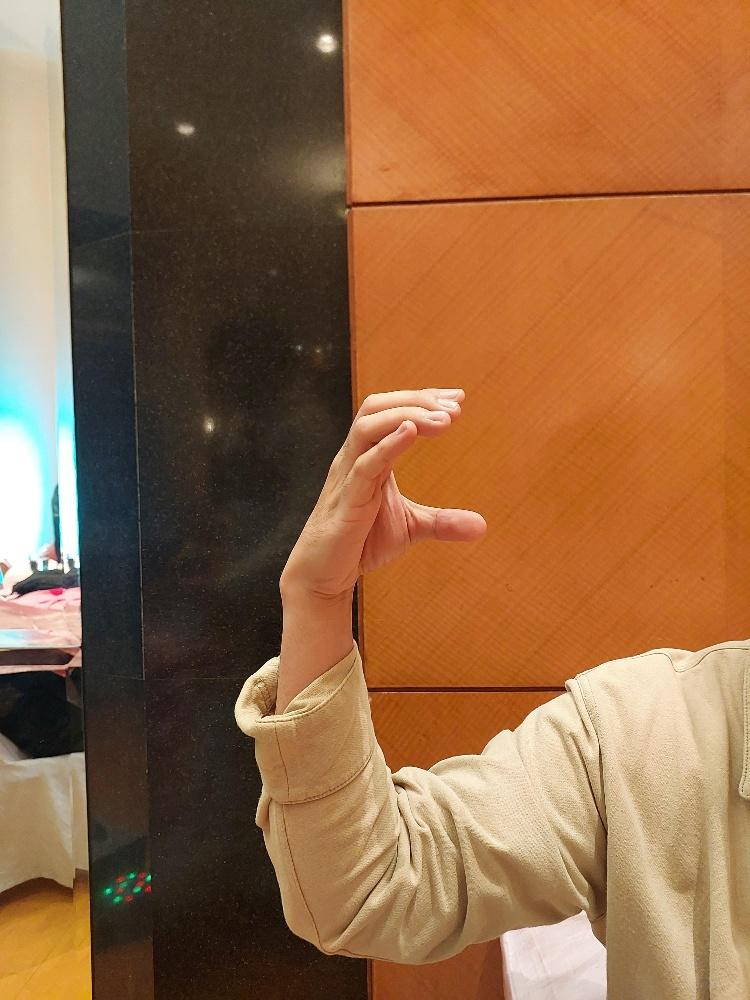c: (298, 385, 488, 598)
